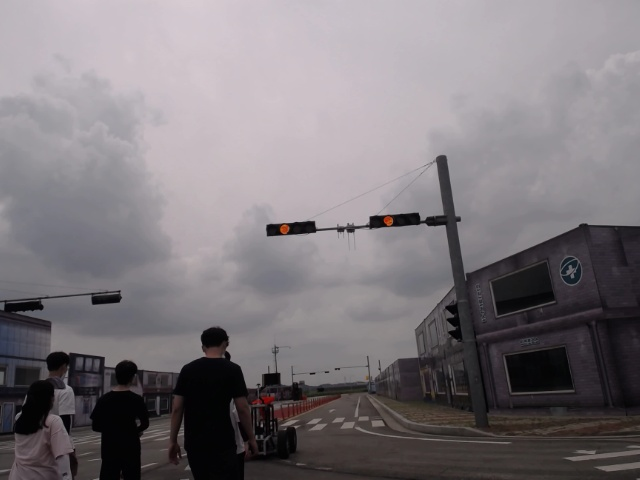orange_4: (264, 220, 321, 237), (368, 213, 424, 227)
